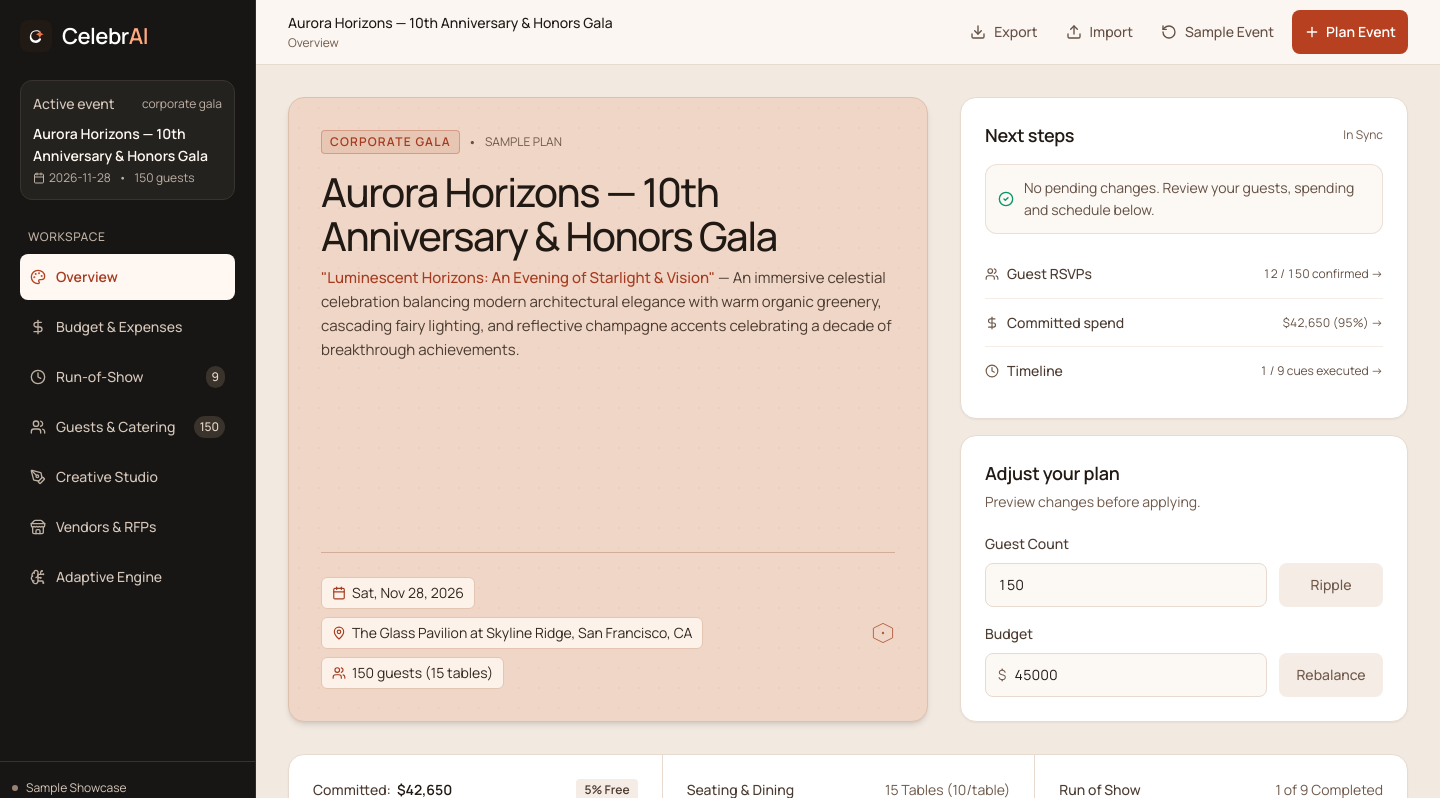
CelebrAI UI Integration & Flow Tests › activates and exits Live Day-of Mode on the Timeline
The width and height of the screenshot is (1440, 798).
Click the tab "Run-of-Show 9" at [128, 377], box 20,354 -> 235,400
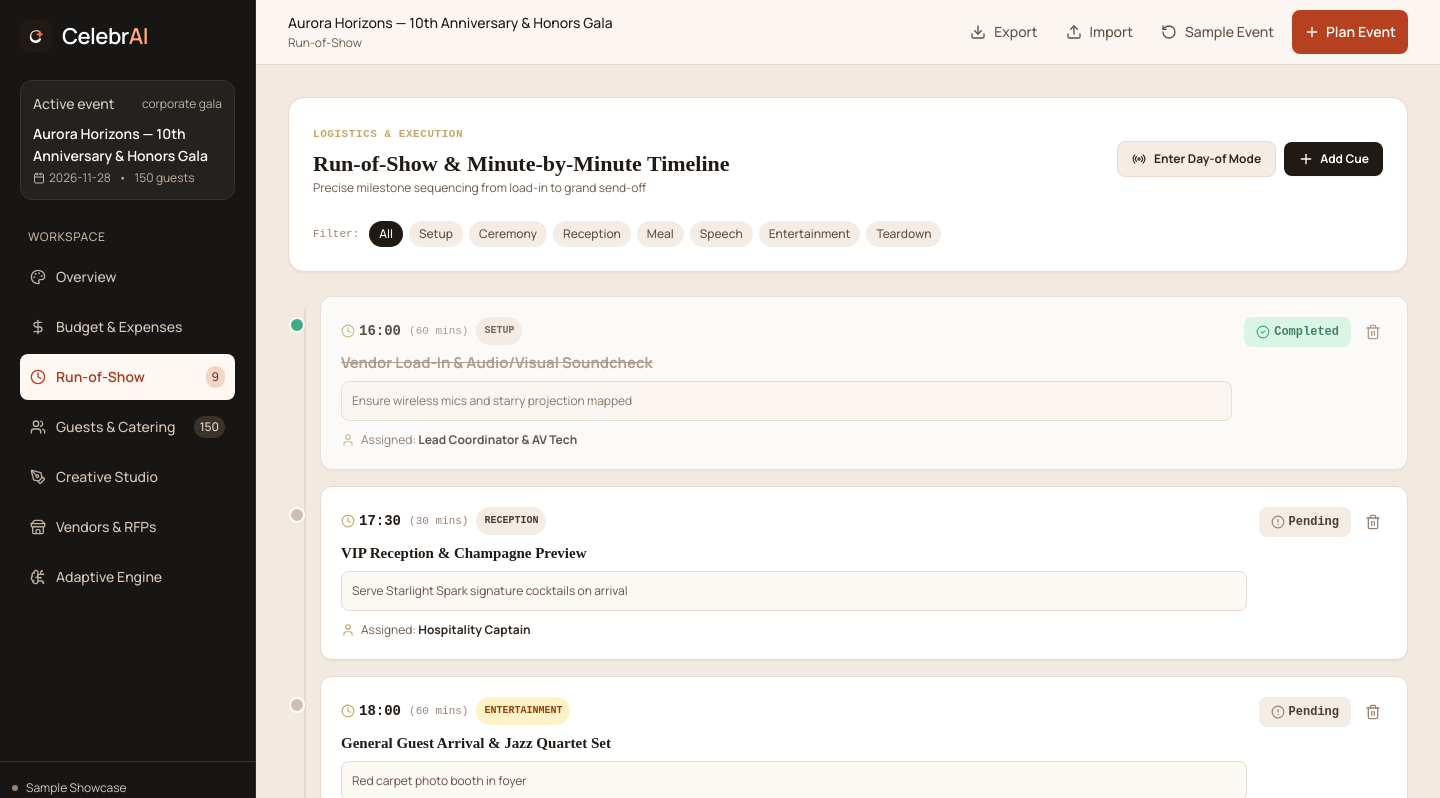
Click the button "Enter Day-of Mode" at [1197, 159], box 1117,141 -> 1276,177
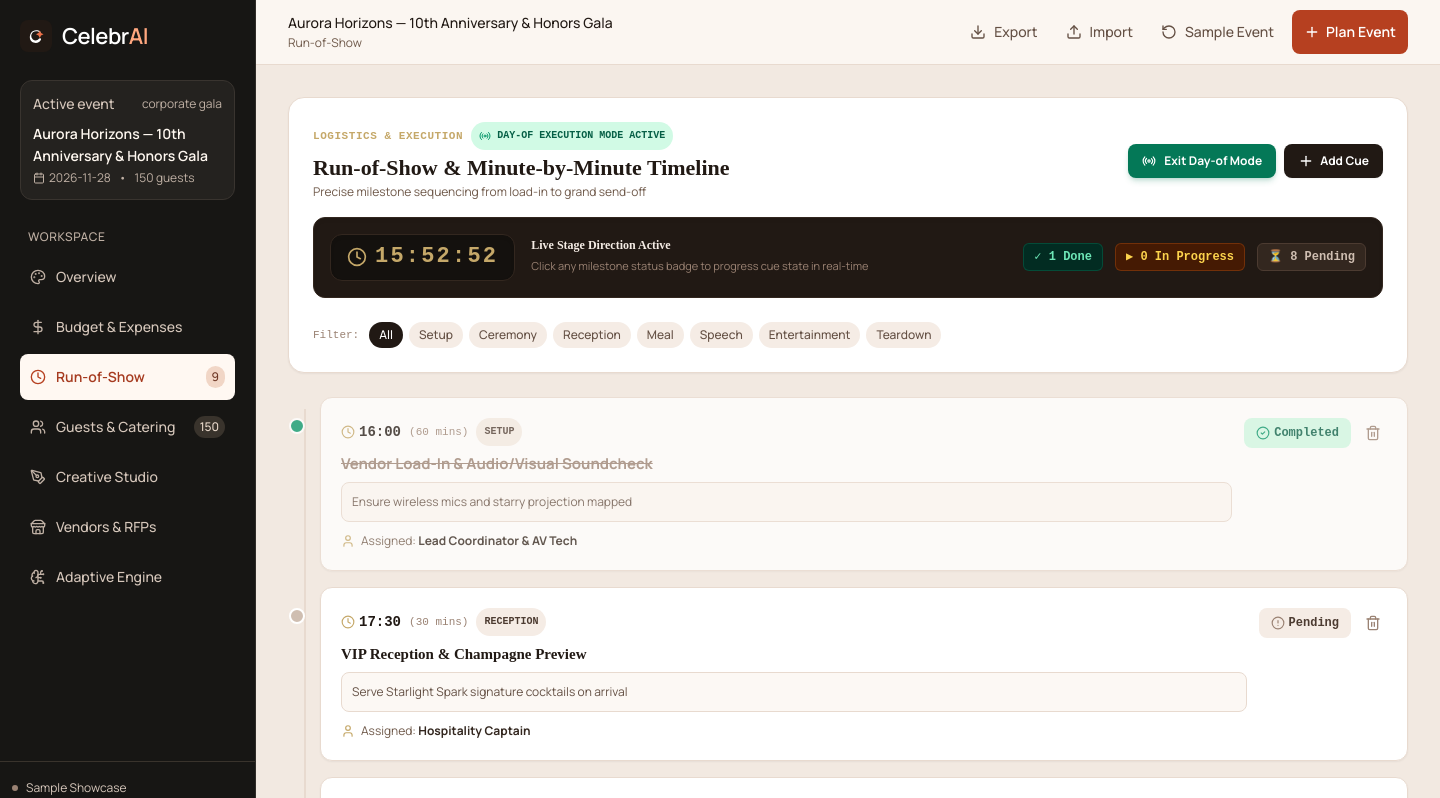
Expected: the text "Day-of Execution Mode Active" is shown, 471,122 -> 673,150
Expected: the text "Exit Day-of Mode" is shown, 1164,152 -> 1262,170
Click the button "Exit Day-of Mode" at [1202, 161], box 1128,144 -> 1276,178
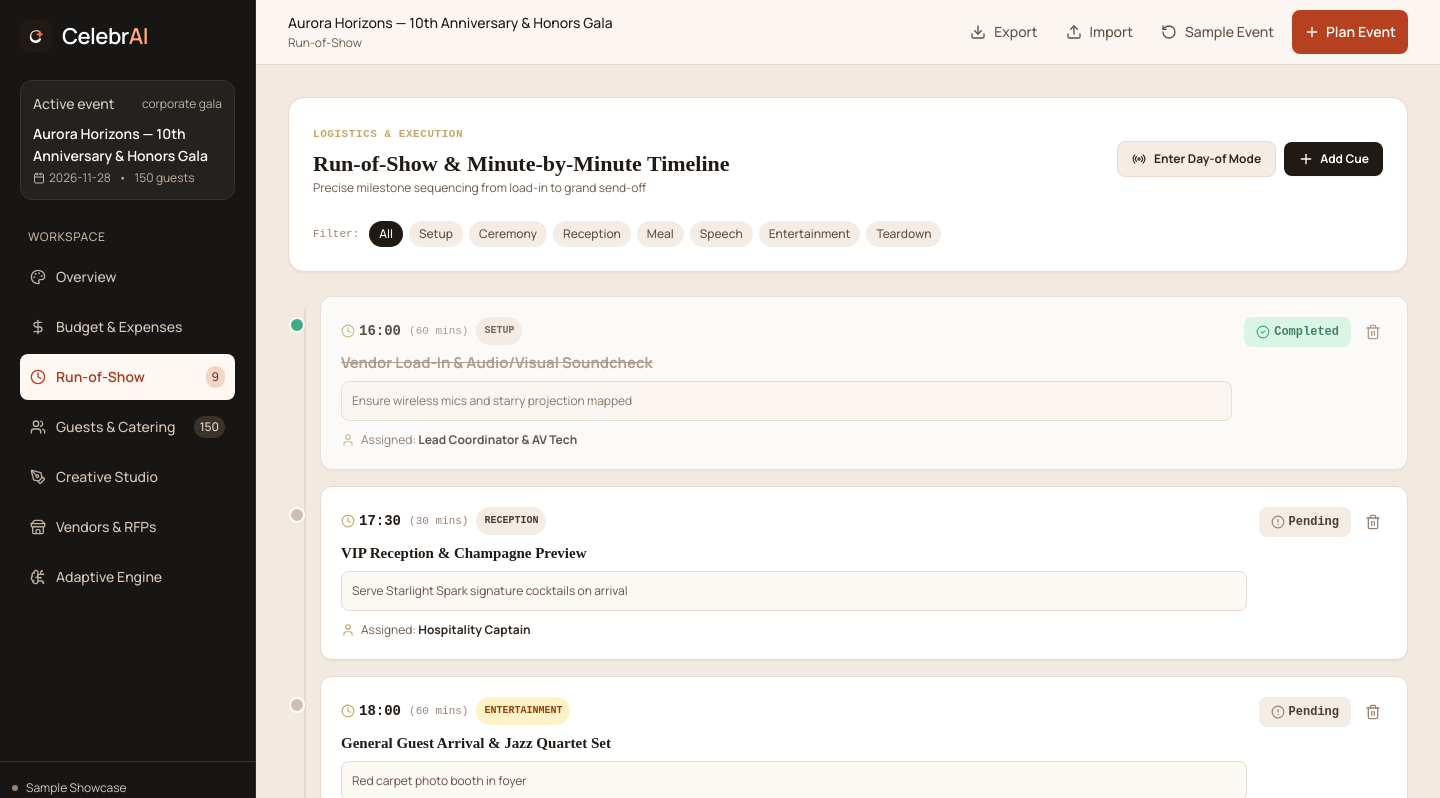
Expected: the text "Day-of Execution Mode Active" is gone
